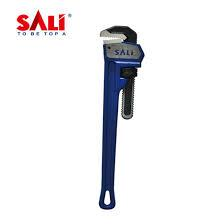wrench: (96, 23, 145, 211)
